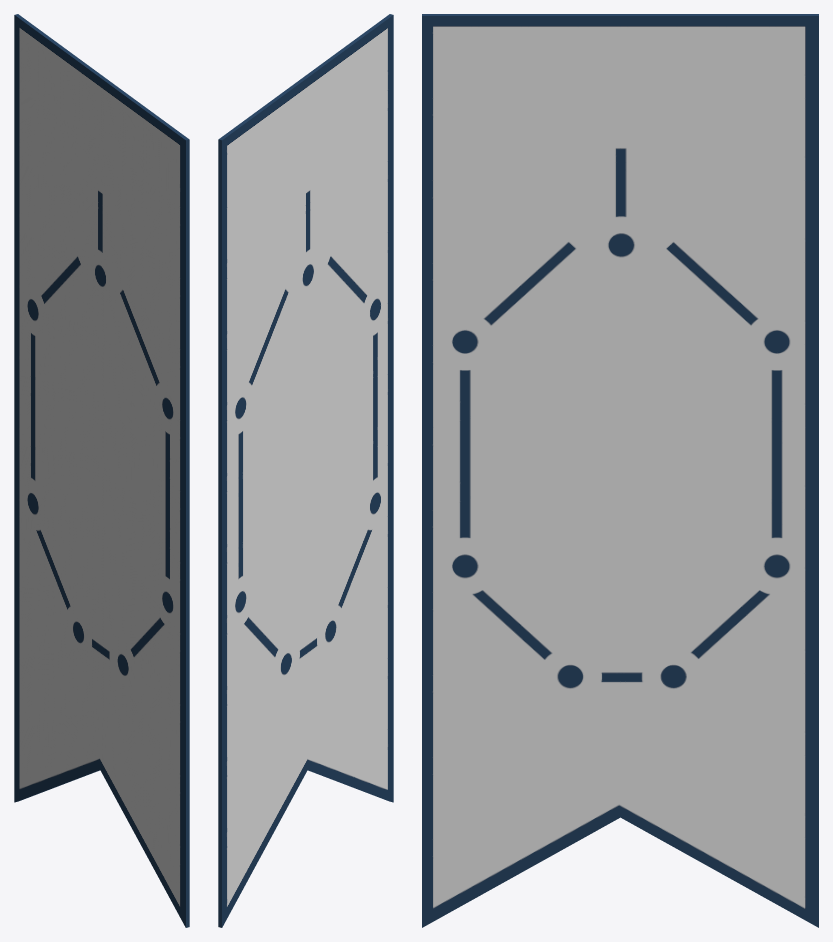
File: banner-rhino.fbx
The picture shows the model from 3 angles, left to right: view 1: azimuth 30°, elevation 25°; view 2: azimuth 150°, elevation 25°; view 3: azimuth 270°, elevation 25°; orthographic projection. The views are drawn at different scales.
Visible parts, largest first — view 1: pPlane7; view 2: pPlane7; view 3: pPlane7.
Part boxes in pixels (box(x1,y1,x2,y2)): pPlane7: box(14, 14, 189, 927); pPlane7: box(218, 14, 393, 927); pPlane7: box(422, 14, 818, 927).
Size of the model in its own units: 0.1 by 20.55 by 8.1.
